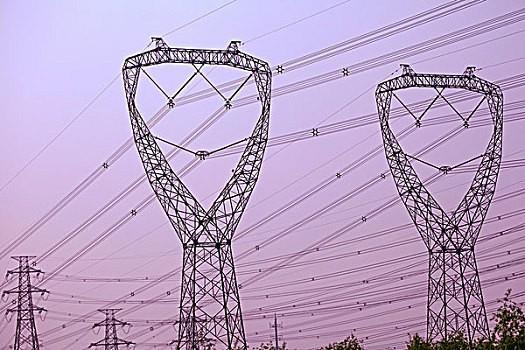power_tower: (122, 31, 284, 350), (374, 62, 512, 338), (0, 249, 56, 350), (92, 307, 140, 350)
